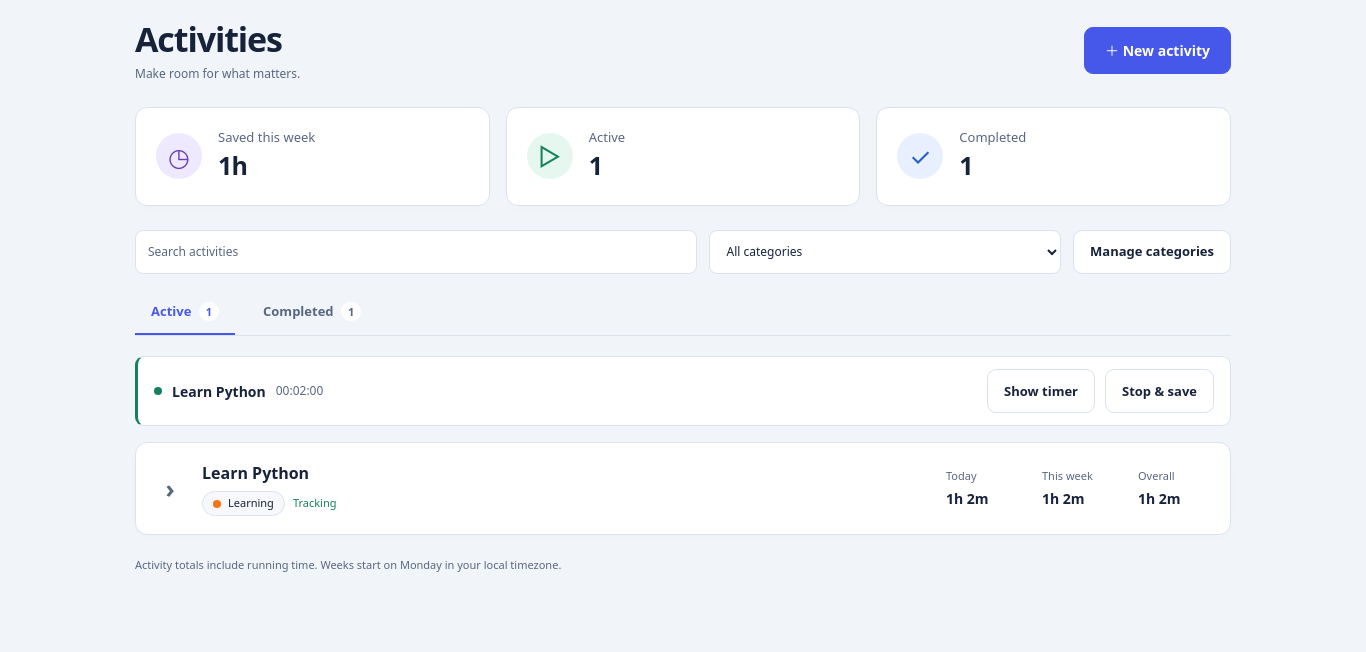
Test: redesigned dashboard › keeps a restored timer reachable when filtered out and does not stop it
Step 1. Type "missing" into the search field with placeholder "Search activities" → (416, 252), box [135,230,698,274]
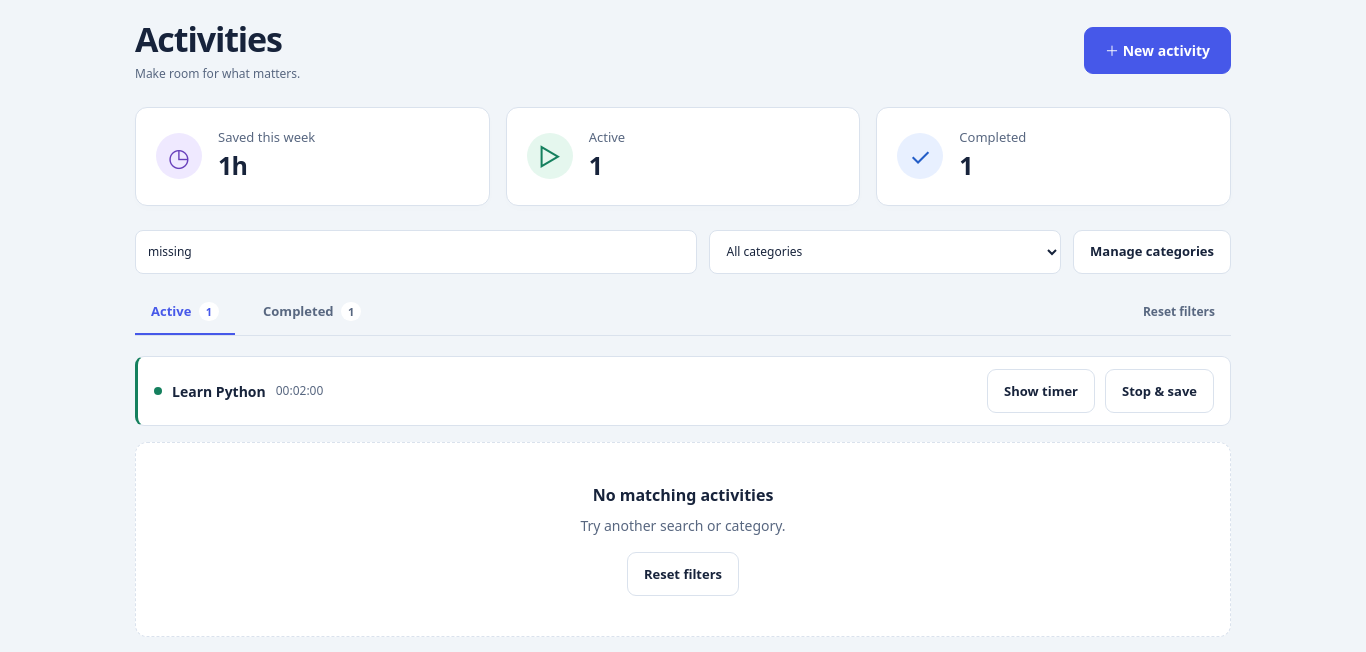
Expected: the element with class "running-banner" shows "Learn Python", [172,382,266,401]
Step 2. Click the button "Show timer" → (1041, 391), box [987,369,1095,413]
(page scrolled)
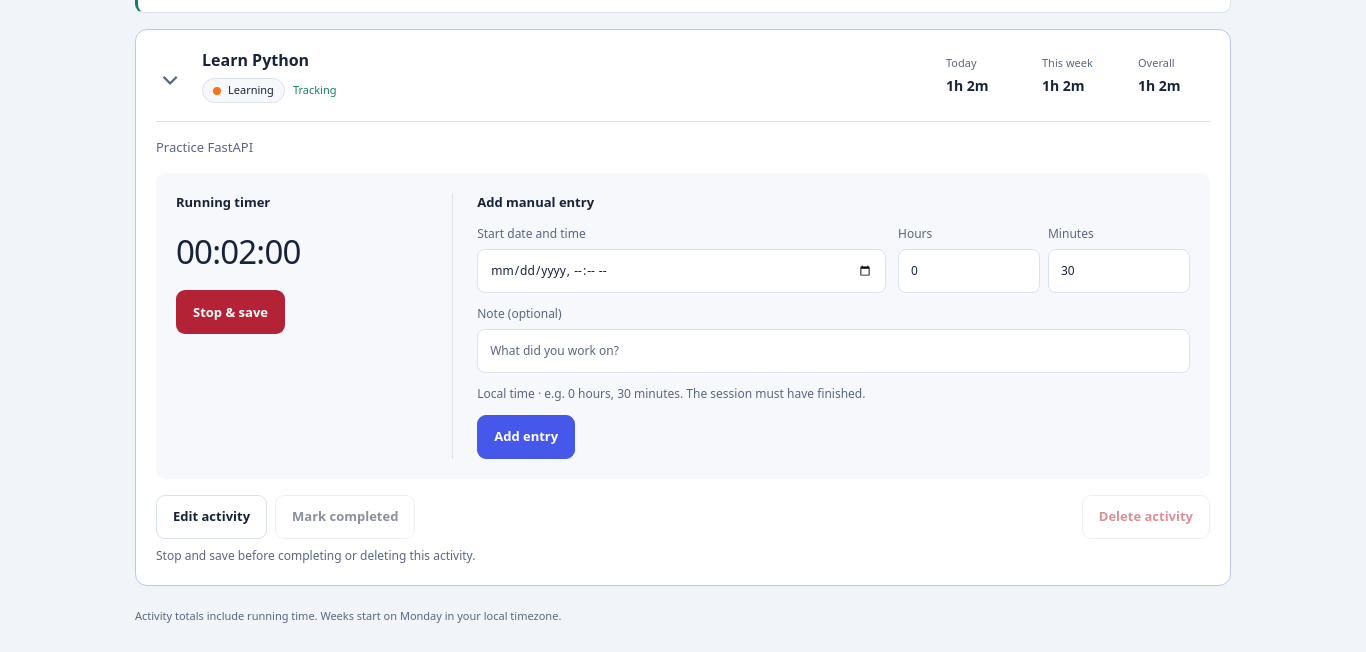
Expected: the button with class "disclosure" is expanded, [148,54,192,98]
Expected: the button with class "delete-button" is disabled, [1082,495,1210,539]
